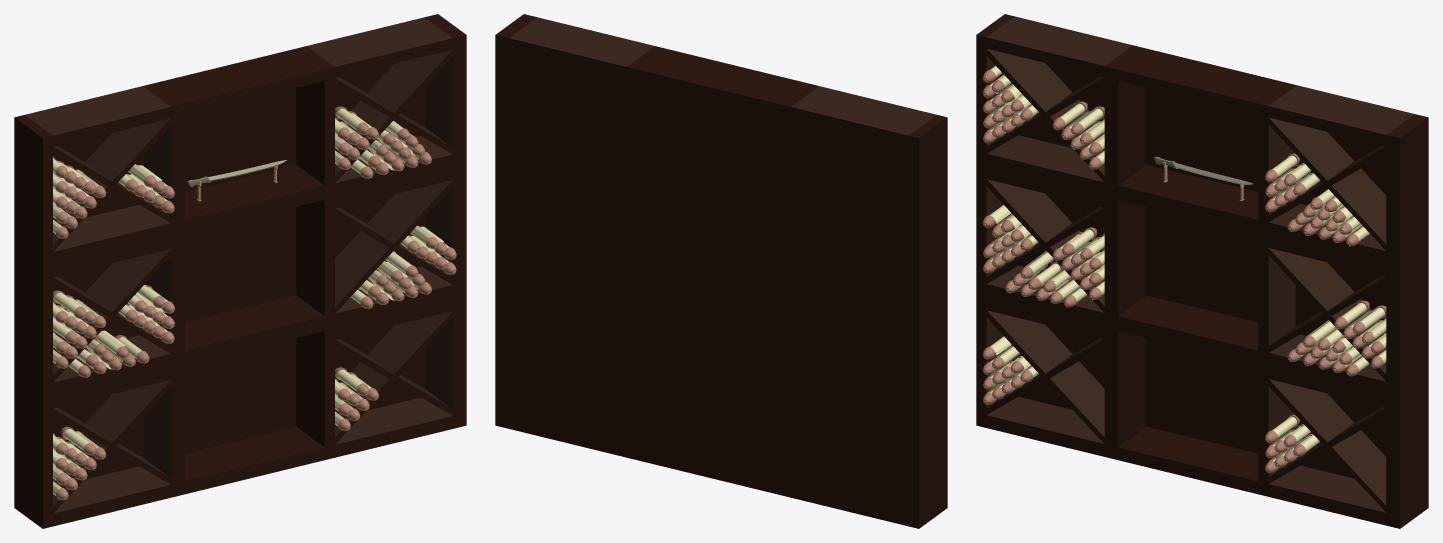
File: Scaffale 1 + Ogg .fbx
The picture shows the model from 3 angles, left to right: view 1: azimuth 30°, elevation 25°; view 2: azimuth 150°, elevation 25°; view 3: azimuth 330°, elevation 25°; orthographic projection.
Parts seen in each view (by area): view 1: Library 1.034, Sword 1.010; view 2: Library 1.034; view 3: Library 1.034, Sword 1.010.
Part boxes in pixels (x1,y1,x2,y2): Library 1.034: (14, 14, 466, 528); Sword 1.010: (188, 160, 286, 186); Library 1.034: (495, 14, 947, 528); Library 1.034: (976, 14, 1428, 528); Sword 1.010: (1154, 156, 1253, 184).
Bounding box in the file's own units: 598 × 527 × 89.17.
